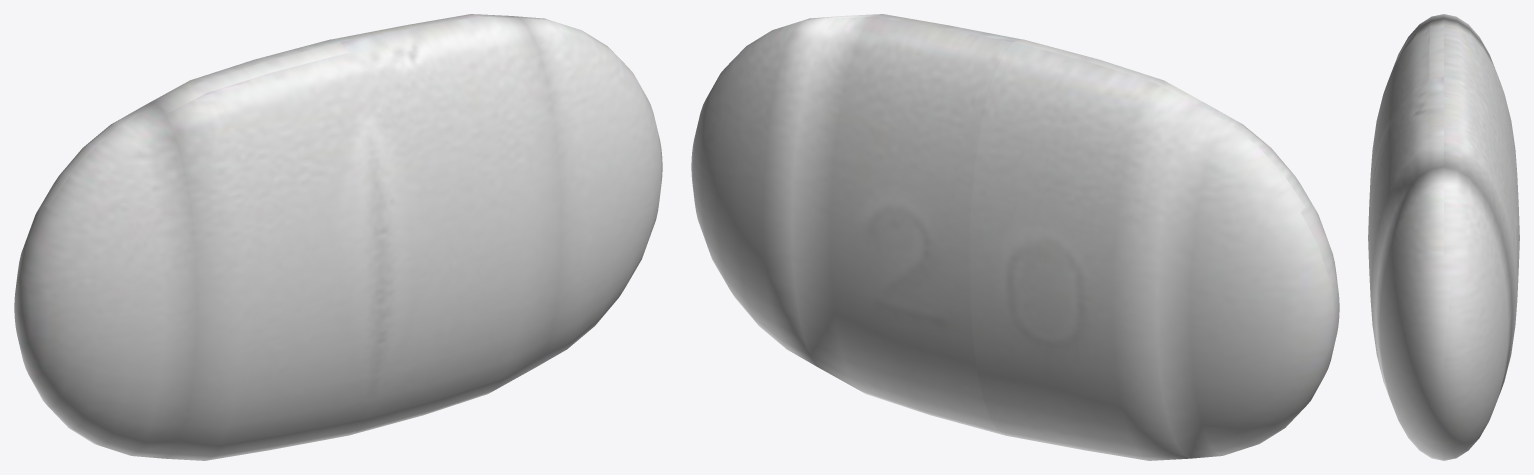
File: 20140311GOPHDRGPT02097.fbx
3 views of the same model, side by side, from view 1: azimuth 30°, elevation 25°; view 2: azimuth 150°, elevation 25°; view 3: azimuth 270°, elevation 25° (orthographic). The views are drawn at different scales.
Parts seen in each view (by area): view 1: Sphere; view 2: Sphere; view 3: Sphere.
Part boxes in pixels (<box>): Sphere: <box>14,14,662,460</box>; Sphere: <box>691,14,1339,460</box>; Sphere: <box>1368,14,1519,460</box>.
Bounding box in the file's own units: 1.19 × 0.6978 × 0.2974.
